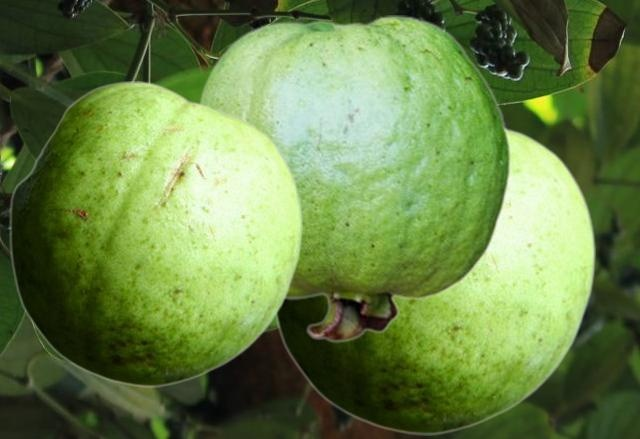guava: (196, 15, 511, 342), (274, 125, 594, 434), (9, 81, 301, 386)
